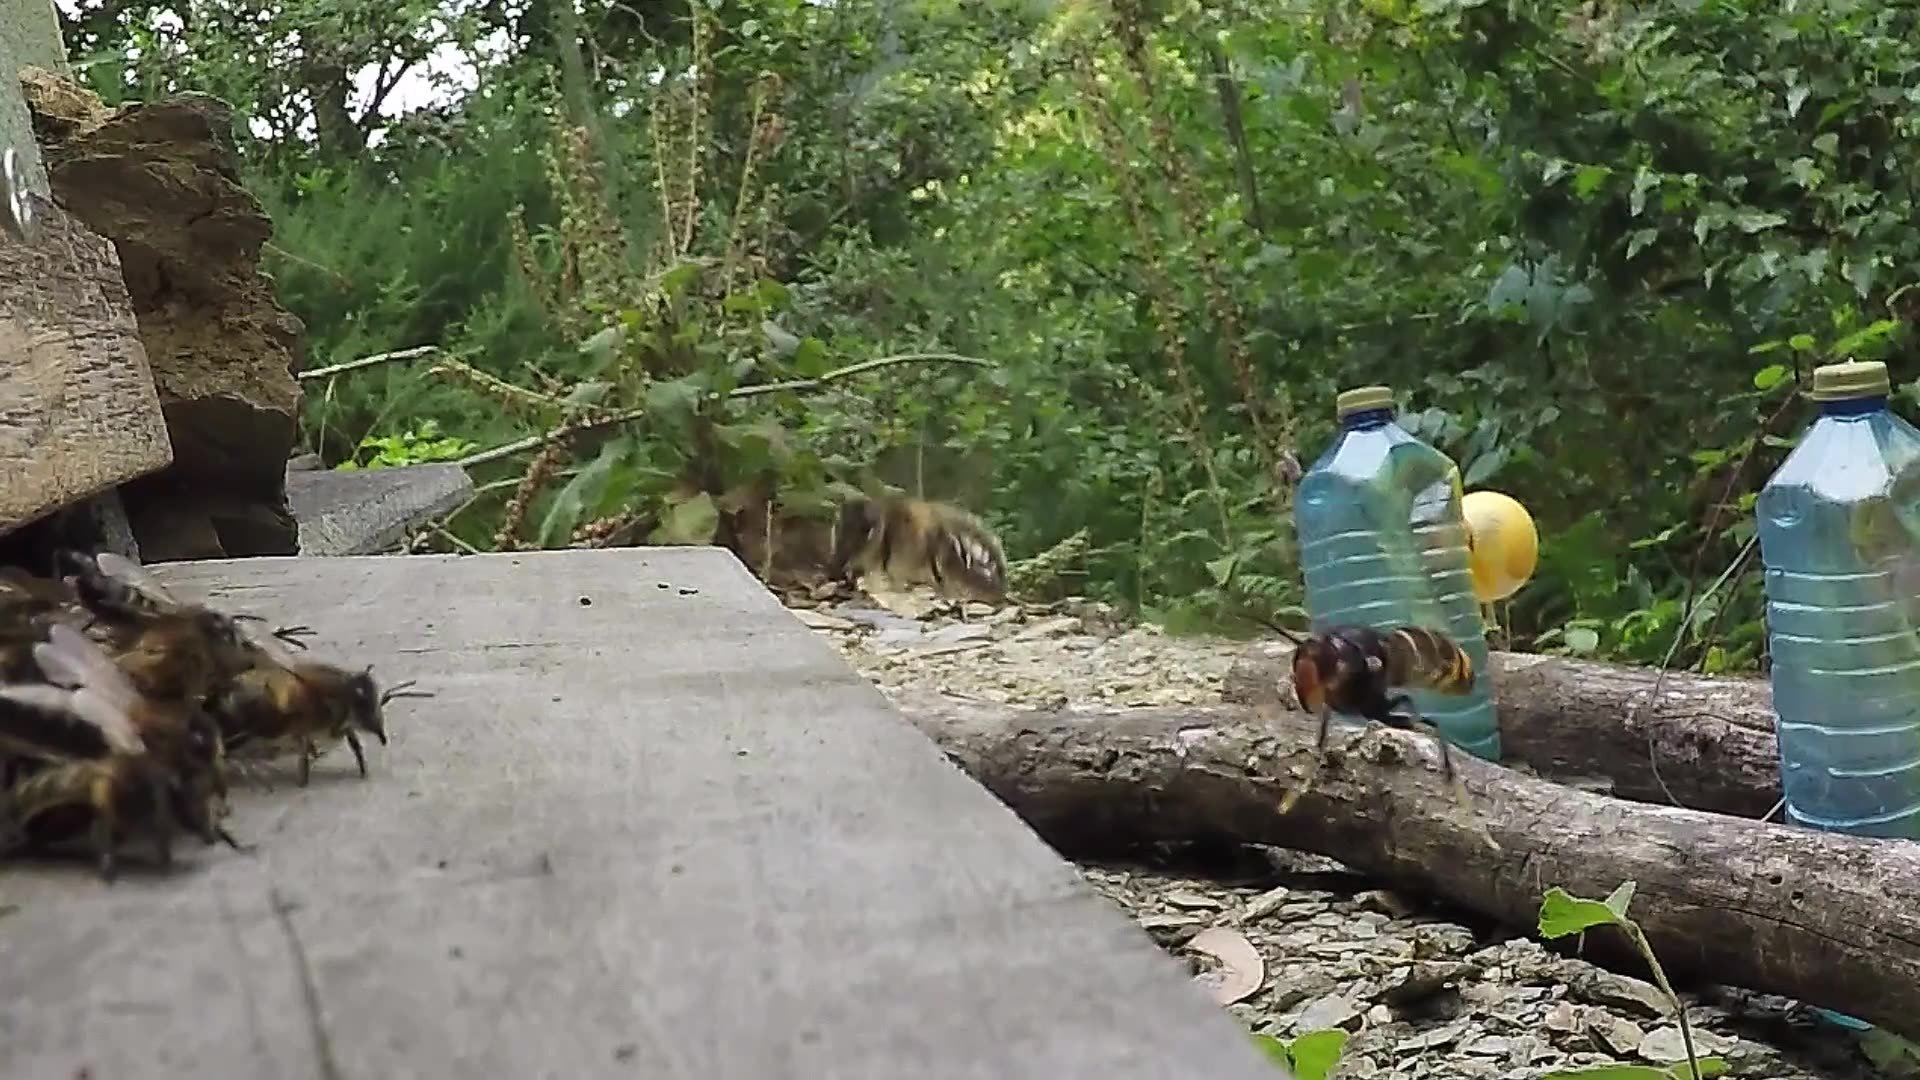bee: (1, 541, 405, 880), (804, 480, 1023, 625)
hornet: (1283, 607, 1495, 742)
